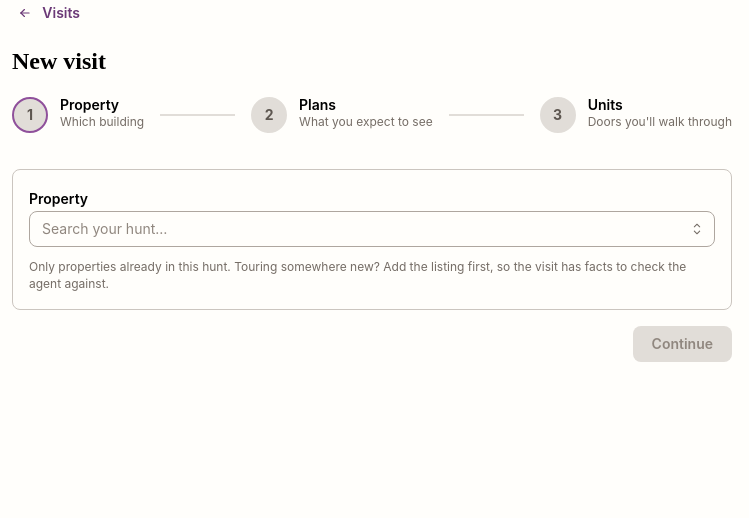
VisitCreatePage › groups a property's plans by derived Unit Group
Click the dropdown labelled "Property".
click(372, 229)  # box [29,211,715,247]
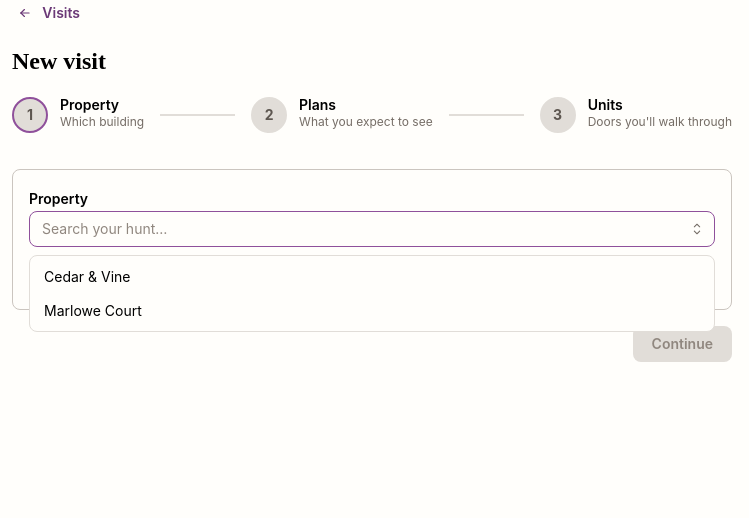
Click the option "Cedar & Vine".
click(87, 276)  # box [44,268,130,285]
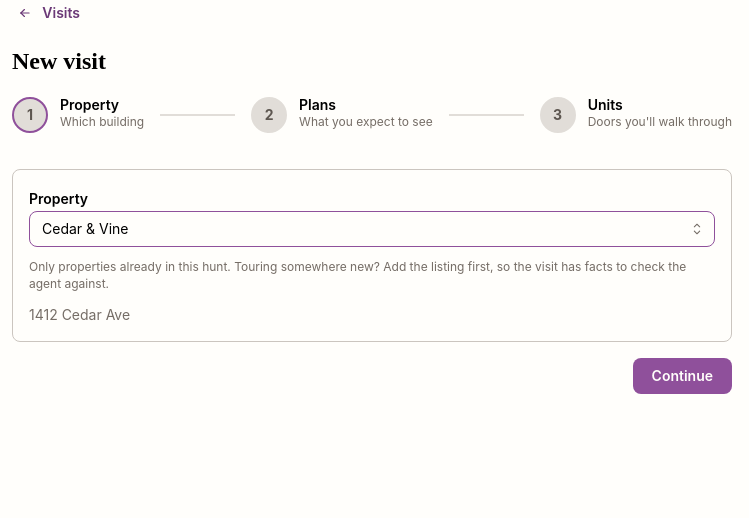
Click the button "Continue".
click(682, 376)  # box [633,358,732,394]
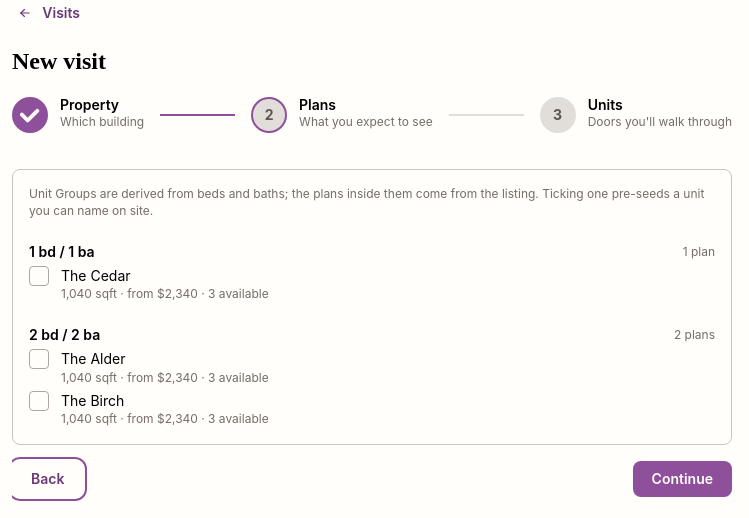
Result: the text "2 bd / 2 ba" is shown at [29,325,100,346]
Result: the text "1 bd / 1 ba" is shown at [29,242,95,262]
Result: the text "2 plans" is shown at [674,327,715,344]
